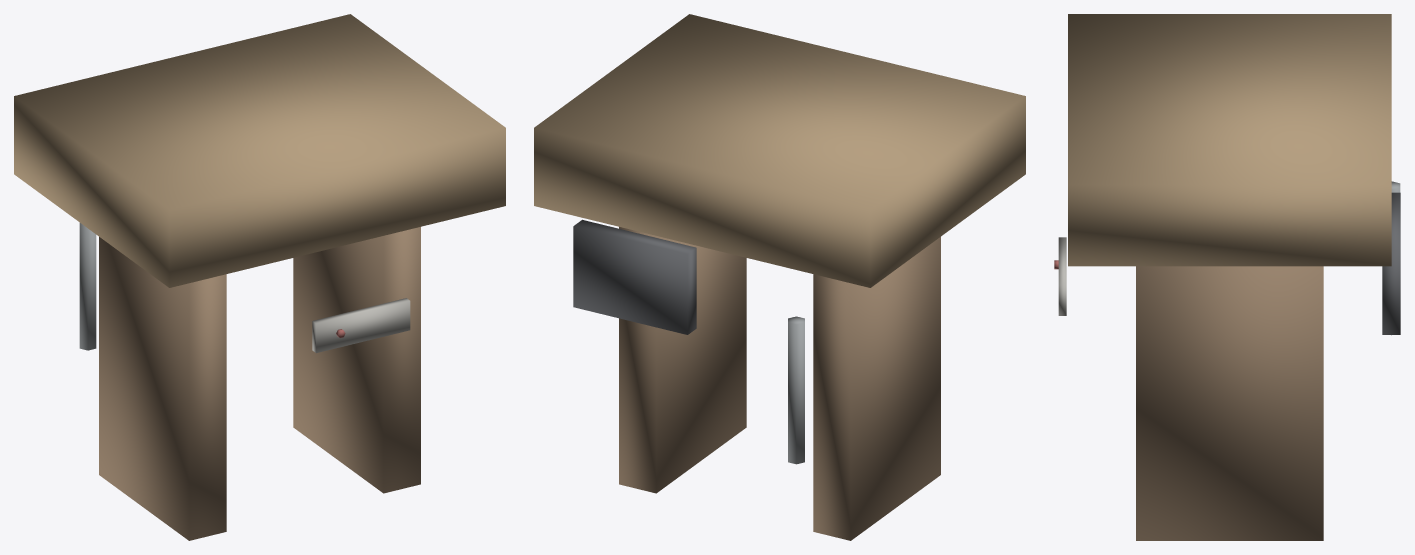
Rendered from butcher_block__service.glb.
The picture shows the model from 3 angles, left to right: view 1: azimuth 30°, elevation 25°; view 2: azimuth 150°, elevation 25°; view 3: azimuth 270°, elevation 25°; orthographic projection. The views are drawn at different scales.
Parts seen in each view (by area): view 1: world; view 2: world; view 3: world.
Boxes of the visible parts, x1,y1,x2,y2 form: world: [14, 14, 505, 540]; world: [534, 14, 1025, 540]; world: [1054, 14, 1400, 540].
Bounding box in the file's own units: 0.9 × 0.94 × 0.7717.
